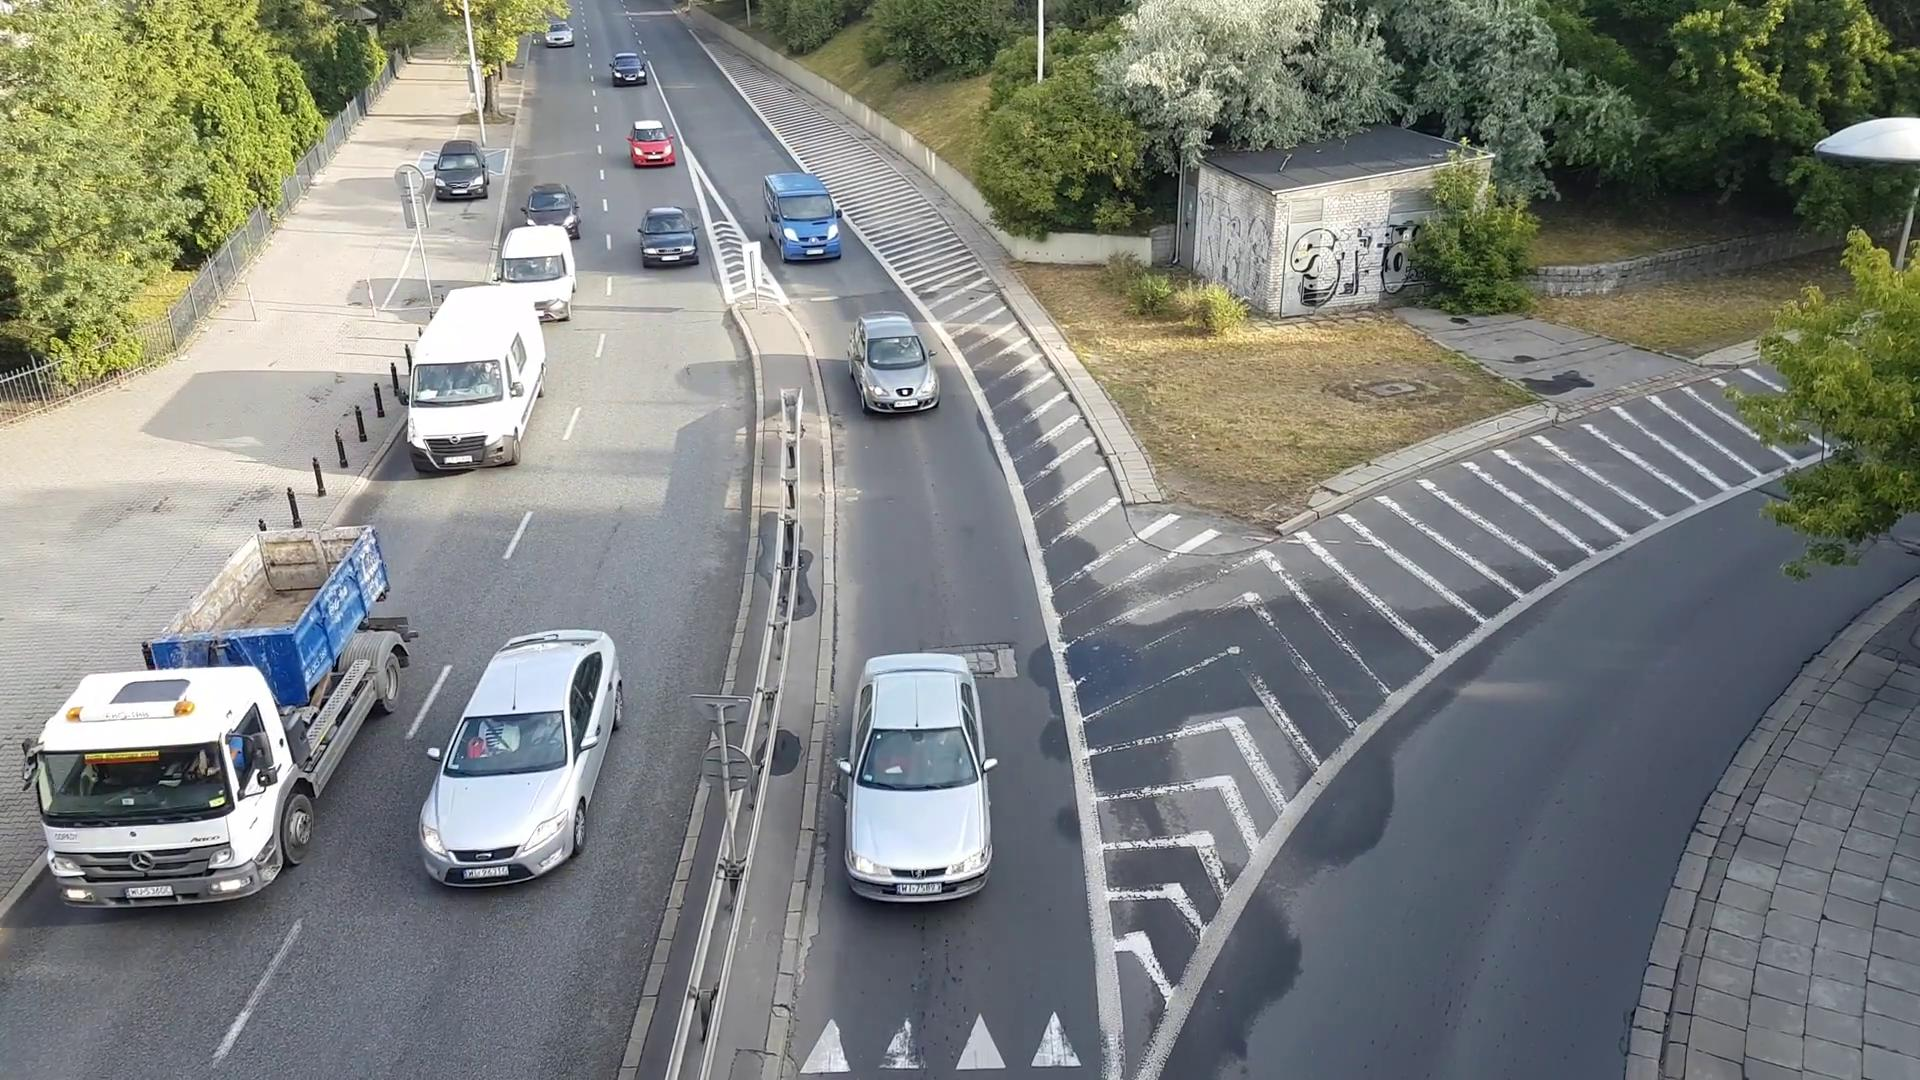car: (398, 605, 654, 886), (825, 633, 1009, 916), (407, 276, 554, 481), (828, 298, 943, 419), (500, 220, 596, 314), (757, 161, 848, 260), (426, 129, 500, 203), (632, 204, 711, 273), (520, 177, 591, 241), (624, 112, 678, 167), (607, 53, 651, 83)
truck: (11, 514, 430, 905)
